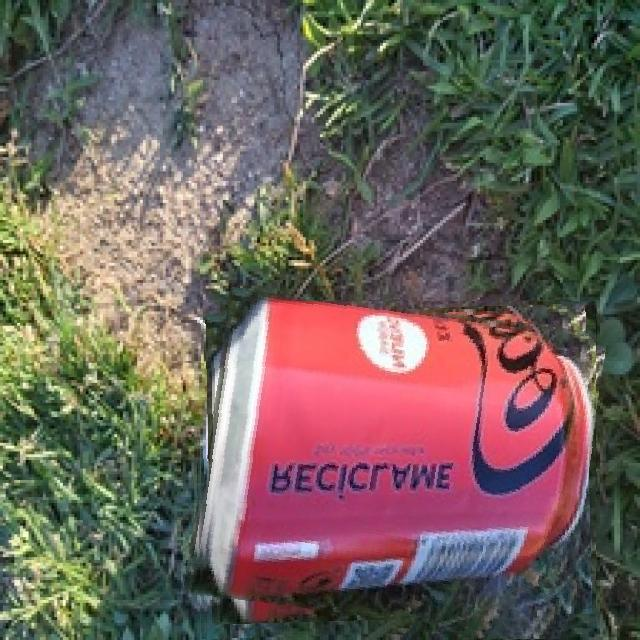recyclable: (194, 301, 596, 639)
